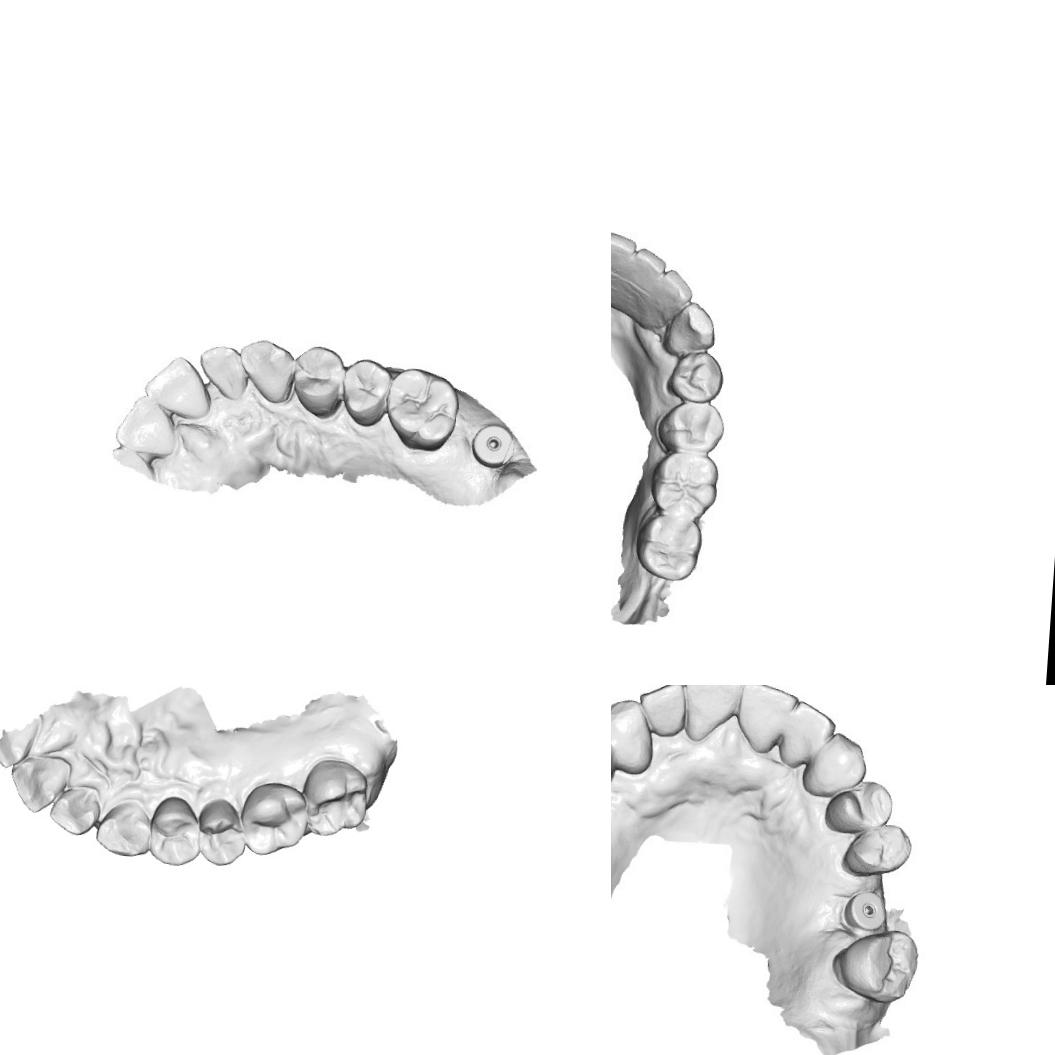canine: (798, 729, 870, 802), (239, 339, 298, 404), (611, 695, 656, 777), (93, 797, 152, 858), (660, 300, 718, 361)
implant: (466, 422, 520, 473), (844, 886, 889, 931)
incisor: (112, 395, 184, 459), (141, 352, 212, 416), (7, 752, 72, 816), (731, 685, 797, 747), (675, 685, 743, 740), (192, 343, 252, 404), (784, 698, 837, 764), (47, 782, 102, 837), (638, 685, 686, 742), (650, 266, 691, 312), (630, 248, 667, 291), (611, 227, 639, 280)
molar: (833, 925, 924, 1006), (386, 364, 458, 453), (299, 756, 370, 839), (236, 779, 310, 858), (634, 510, 703, 580), (650, 446, 719, 516)
premolar: (841, 816, 915, 882), (822, 779, 890, 842), (147, 793, 203, 868), (195, 795, 248, 868), (657, 393, 722, 452), (340, 358, 392, 427), (292, 346, 342, 414), (667, 350, 724, 401)
